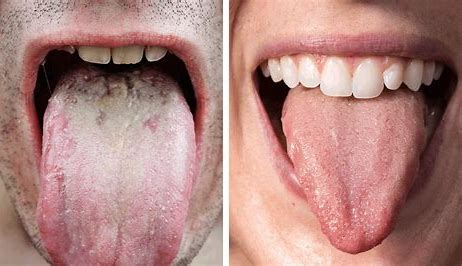baitaishe: (36, 69, 196, 266), (281, 98, 426, 255)
